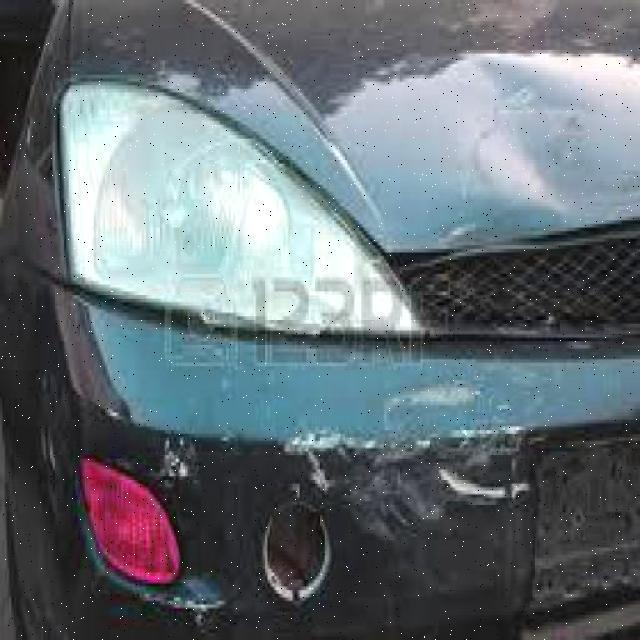car damage: (130, 377, 557, 619), (372, 102, 631, 292)
